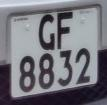2: (74, 44, 93, 87)
3: (57, 48, 75, 89)
8: (17, 51, 39, 97), (37, 50, 58, 91)
F: (54, 11, 78, 51)
G: (35, 12, 58, 53)
